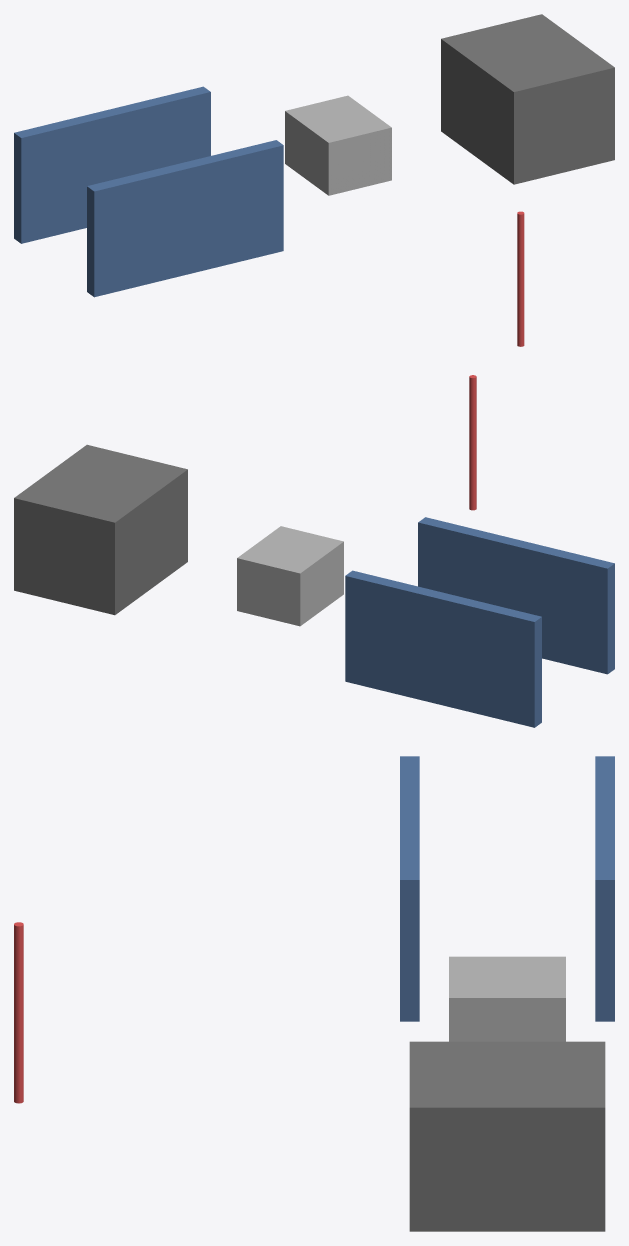
Rendered from montage_panneau_solaire_v1.glb.
The picture shows the model from 3 angles, top to bottom: view 1: azimuth 30°, elevation 25°; view 2: azimuth 150°, elevation 25°; view 3: azimuth 270°, elevation 25°; orthographic projection. The views are drawn at different scales.
Parts seen in each view (by area): view 1: battery, panel_2, panel_1, regulator, wire_template; view 2: battery, panel_1, panel_2, regulator, wire_template; view 3: battery, regulator, panel_1, panel_2, wire_template.
Boxes of the visible parts, <box> form: battery: <box>441,14,614,184</box>; panel_2: <box>87,140,283,297</box>; panel_1: <box>14,86,210,243</box>; regulator: <box>285,95,391,195</box>; wire_template: <box>517,211,524,346</box>; battery: <box>14,444,187,615</box>; panel_1: <box>345,570,541,727</box>; panel_2: <box>418,517,614,674</box>; regulator: <box>237,526,343,626</box>; wire_template: <box>469,375,476,510</box>; battery: <box>409,1041,605,1231</box>; regulator: <box>449,956,565,1041</box>; panel_1: <box>595,756,614,1021</box>; panel_2: <box>400,756,419,1021</box>; wire_template: <box>14,922,23,1103</box>.
Bounding box in the file's own units: 8.3 × 2 × 6.15.
